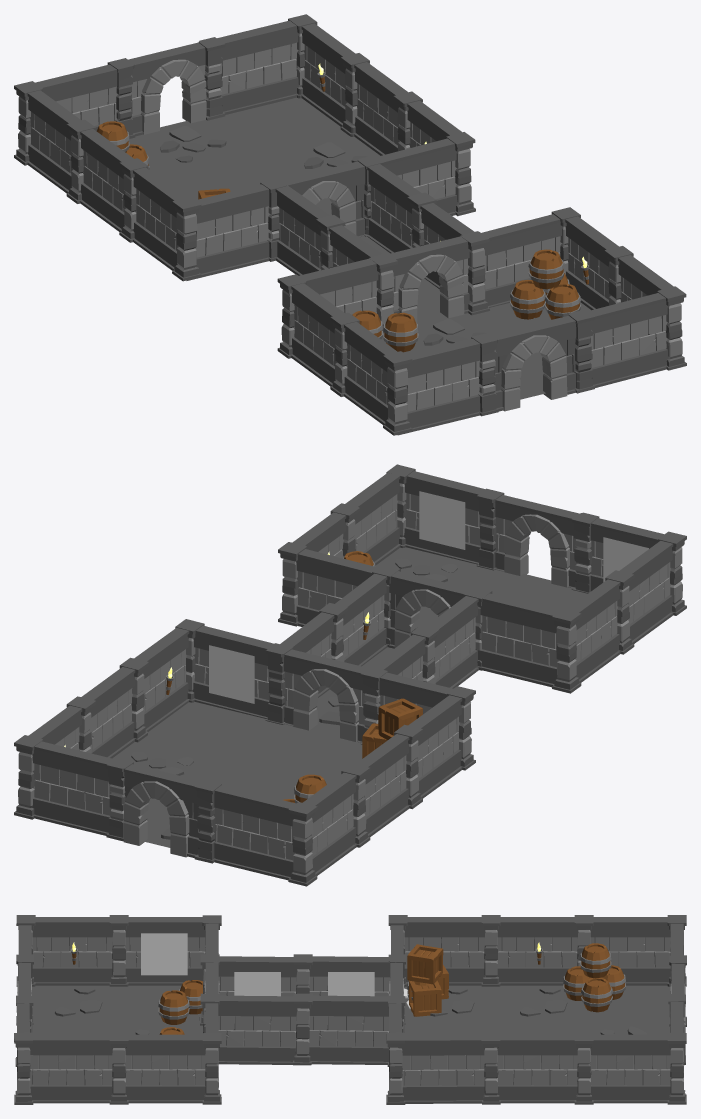
File: sceneN.gltf
3 renders of one model, top to bottom at view 1: azimuth 30°, elevation 25°; view 2: azimuth 150°, elevation 25°; view 3: azimuth 270°, elevation 25°, orthographic. The views are drawn at different scales.
Parts seen in each view (by area): view 1: Cube.006, Cube.026, Cube.027, Cube.021, Cube.013, Cube.046, Cube.029, Cube.015, Cube.012, Cube.030, Cube.016, Door and hole.004 (+27 smaller); view 2: Cube.018, Cube.032, Cube.006, Cube.021, Cube.022, Cube.046, Cube.030, Cube.017, Cube.016, Cube.029, Cube.015, Cube.010 (+27 smaller); view 3: Cube.024, Cube.010, Cube.023, Cube.008, Cube.009, Cube.011, Cube.016, Cube.029, Cube.014, Cube.017, Cube.030, Cube.015 (+35 smaller).
Boxes of the visible parts, box(x1,y1,x2,y2) form: Cube.006: box(198, 20, 299, 120); Cube.026: box(587, 286, 686, 387); Cube.027: box(397, 332, 498, 435); Cube.021: box(492, 309, 595, 411); Cube.013: box(187, 178, 286, 280); Cube.046: box(107, 42, 206, 138); Cube.029: box(344, 322, 412, 435); Cube.015: box(133, 167, 201, 281); Cube.012: box(377, 132, 475, 216); Cube.030: box(291, 283, 359, 396); Cube.016: box(80, 129, 148, 242); Door and hole.004: box(388, 236, 470, 323); Cube.018: box(213, 785, 317, 886); Cube.032: box(475, 593, 581, 693); Cube.006: box(32, 741, 133, 841); Cube.021: box(476, 488, 579, 588); Cube.022: box(265, 643, 368, 742); Cube.046: box(123, 764, 221, 863); Cube.030: box(566, 570, 634, 682); Cube.017: box(302, 763, 370, 875); Cube.016: box(355, 724, 422, 837); Cube.029: box(619, 531, 686, 643); Cube.015: box(408, 686, 475, 798); Cube.010: box(119, 627, 189, 742); Cube.024: box(29, 1033, 128, 1104); Cube.010: box(398, 1033, 500, 1104); Cube.023: box(125, 1033, 221, 1104); Cube.008: box(590, 1033, 686, 1104); Cube.009: box(497, 1033, 593, 1104); Cube.011: box(293, 993, 388, 1065); Cube.016: box(481, 915, 578, 986); Cube.029: box(16, 915, 113, 986); Cube.014: box(200, 993, 297, 1064); Cube.017: box(574, 915, 670, 985); Cube.030: box(109, 915, 205, 986); Cube.015: box(388, 915, 485, 986).
Bounding box in the file's own units: 12.83 × 3.16 × 28.94.
